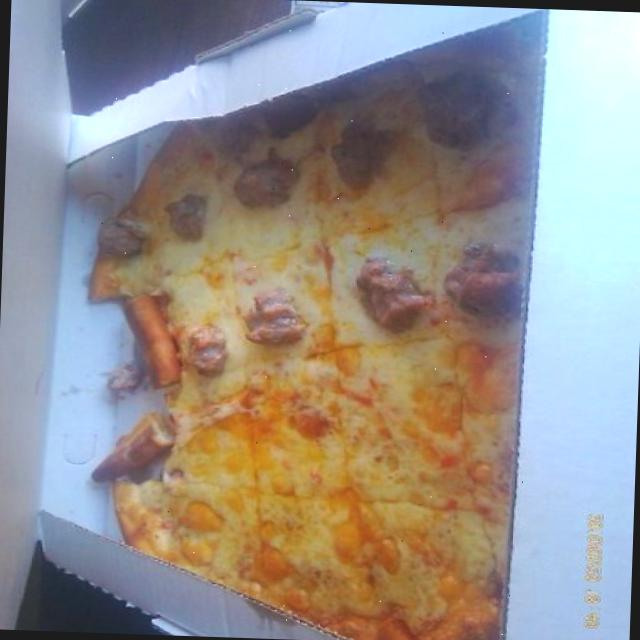pizza: (92, 17, 543, 640)
